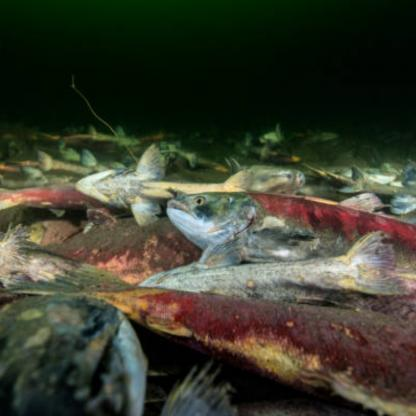sockeye: (166, 180, 416, 270)
